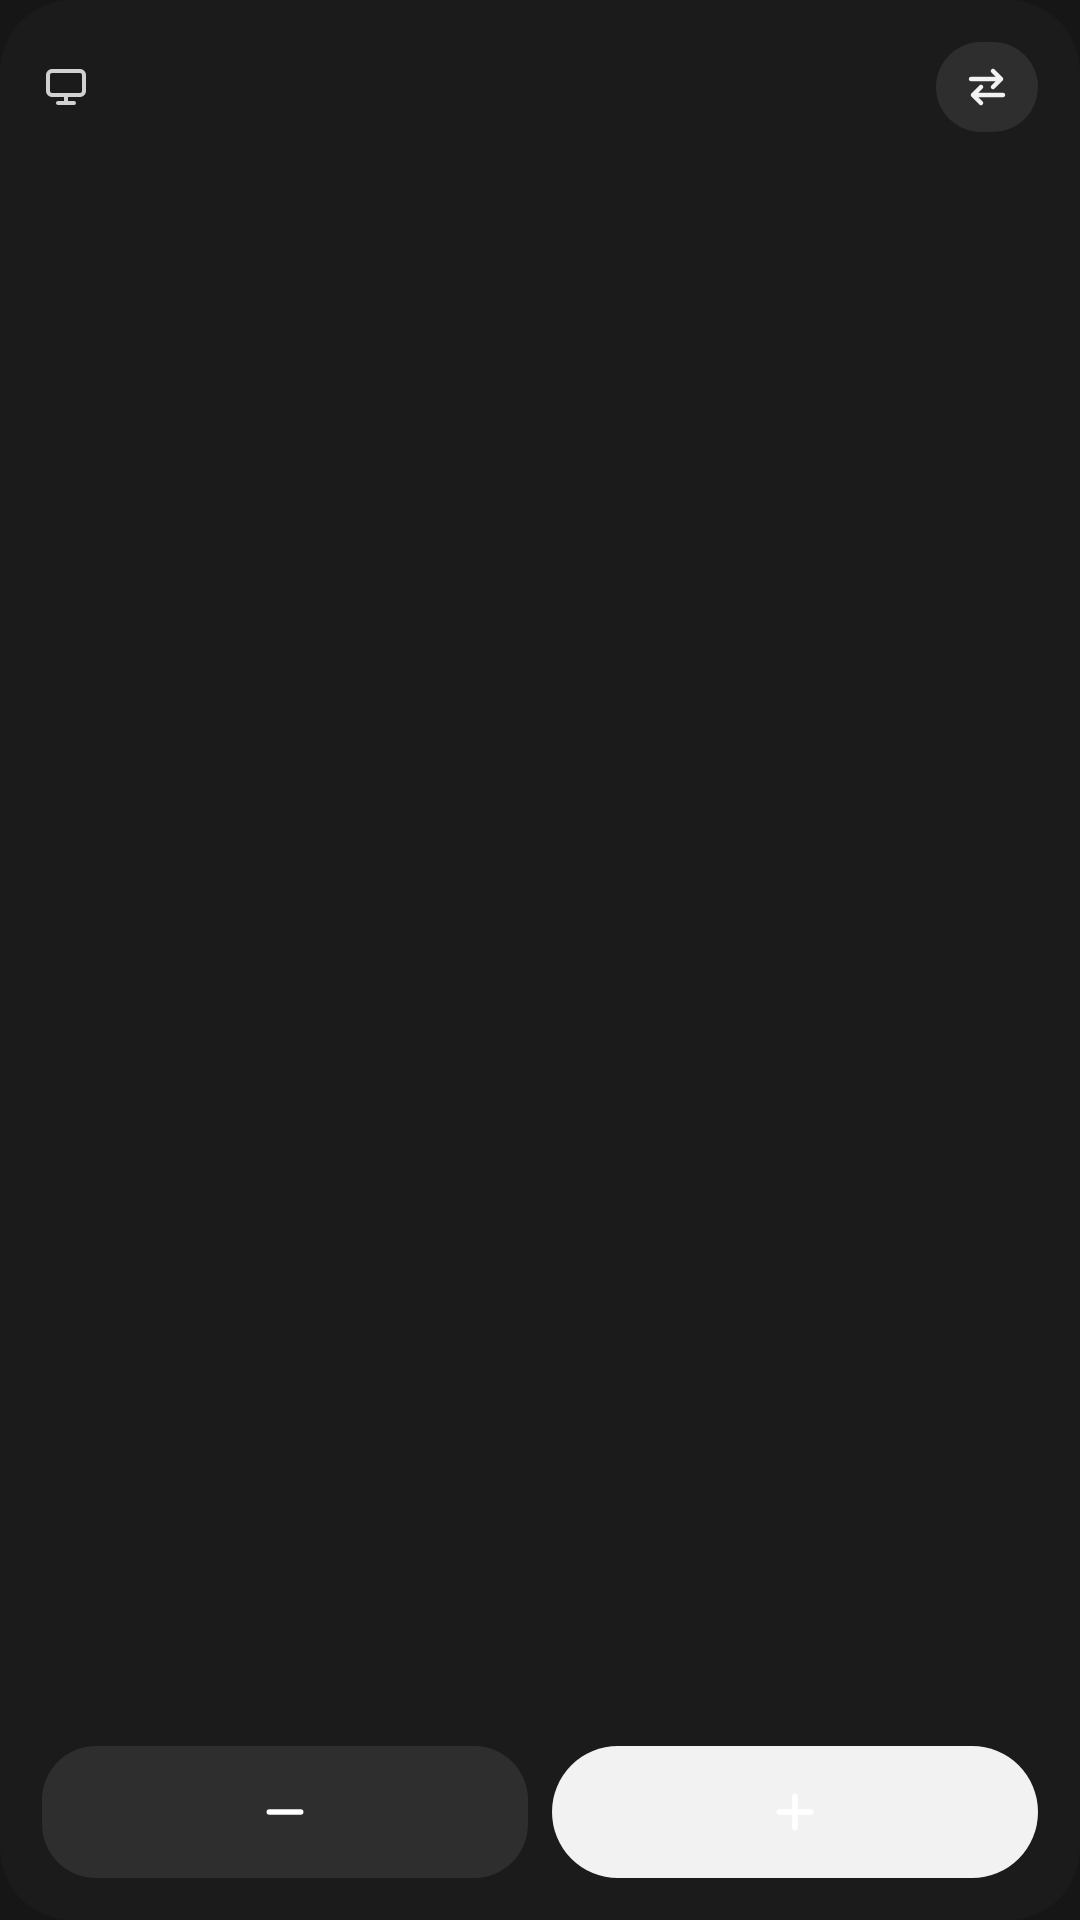

Where to tap for icons on this 1080px×1920px app screen, as [x,y]:
monitor: [66,87]
